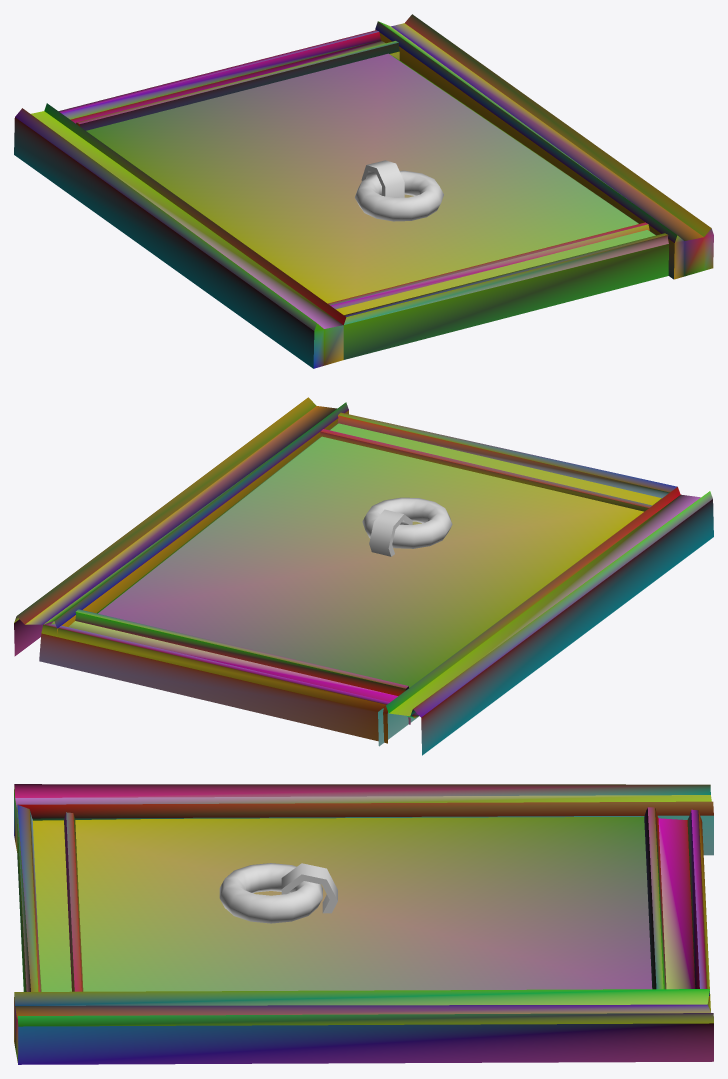
File: Hatch.fbx
3 views of the same model, one above another, from view 1: azimuth 30°, elevation 25°; view 2: azimuth 150°, elevation 25°; view 3: azimuth 270°, elevation 25° (orthographic). The views are drawn at different scales.
Parts seen in each view (by area): view 1: Hatch; view 2: Hatch; view 3: Hatch.
Part boxes in pixels (box(x1,y1,x2,y2)): Hatch: box(14, 14, 713, 368); Hatch: box(14, 397, 713, 755); Hatch: box(14, 784, 713, 1064).
Bounding box in the file's own units: 313 × 48.81 × 394.
